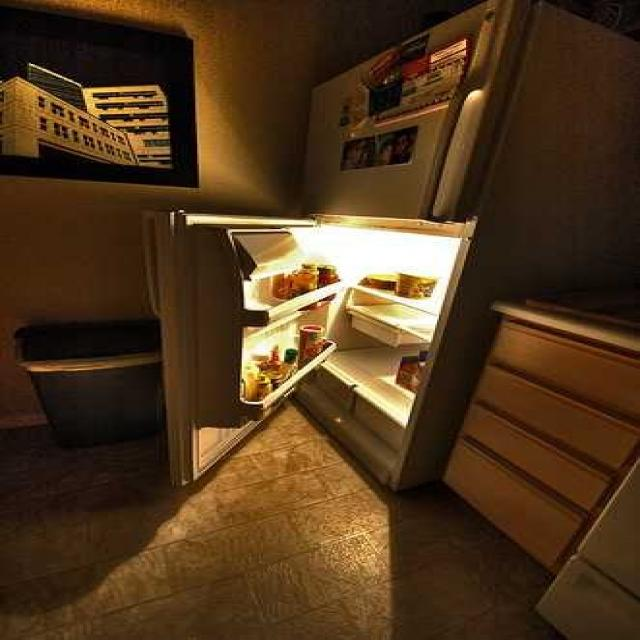refrigerator: (171, 1, 540, 505)
